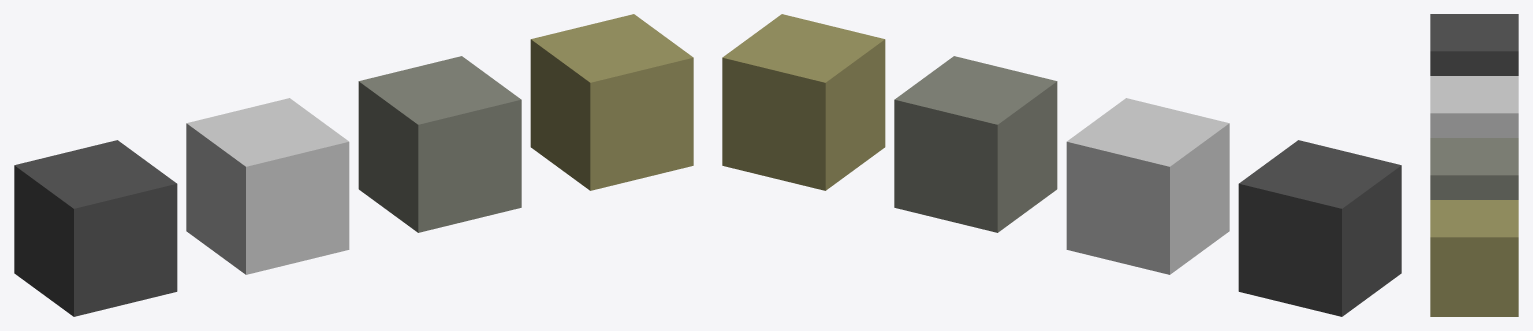
Rendered from uploads-files-2792078-Valve.glb.
3 views of the same model, side by side, from view 1: azimuth 30°, elevation 25°; view 2: azimuth 150°, elevation 25°; view 3: azimuth 270°, elevation 25° (orthographic). The views are drawn at different scales.
Visible parts, largest first — view 1: Node1, Node2, Node3, Node4; view 2: Node1, Node2, Node3, Node4; view 3: Node4, Node1, Node2, Node3.
Part boxes in pixels (bbox=[...]): Node1: bbox=[14, 140, 177, 316]; Node2: bbox=[186, 98, 349, 274]; Node3: bbox=[358, 56, 521, 232]; Node4: bbox=[530, 14, 693, 190]; Node1: bbox=[1238, 140, 1401, 316]; Node2: bbox=[1066, 98, 1229, 274]; Node3: bbox=[894, 56, 1057, 232]; Node4: bbox=[722, 14, 885, 190]; Node4: bbox=[1430, 200, 1518, 316]; Node1: bbox=[1430, 14, 1518, 75]; Node2: bbox=[1430, 76, 1518, 137]; Node3: bbox=[1430, 138, 1518, 199].
Bounding box in the file's own units: 36 × 6 × 6.
